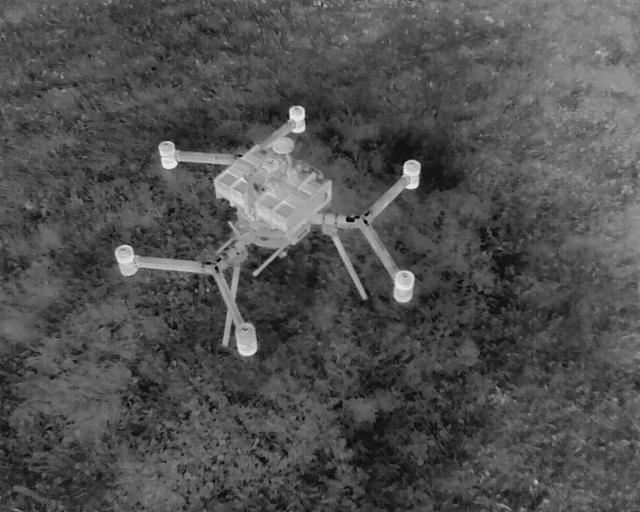drone: (107, 95, 422, 364)
